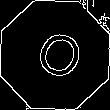O_SW: (24, 23, 86, 87)
